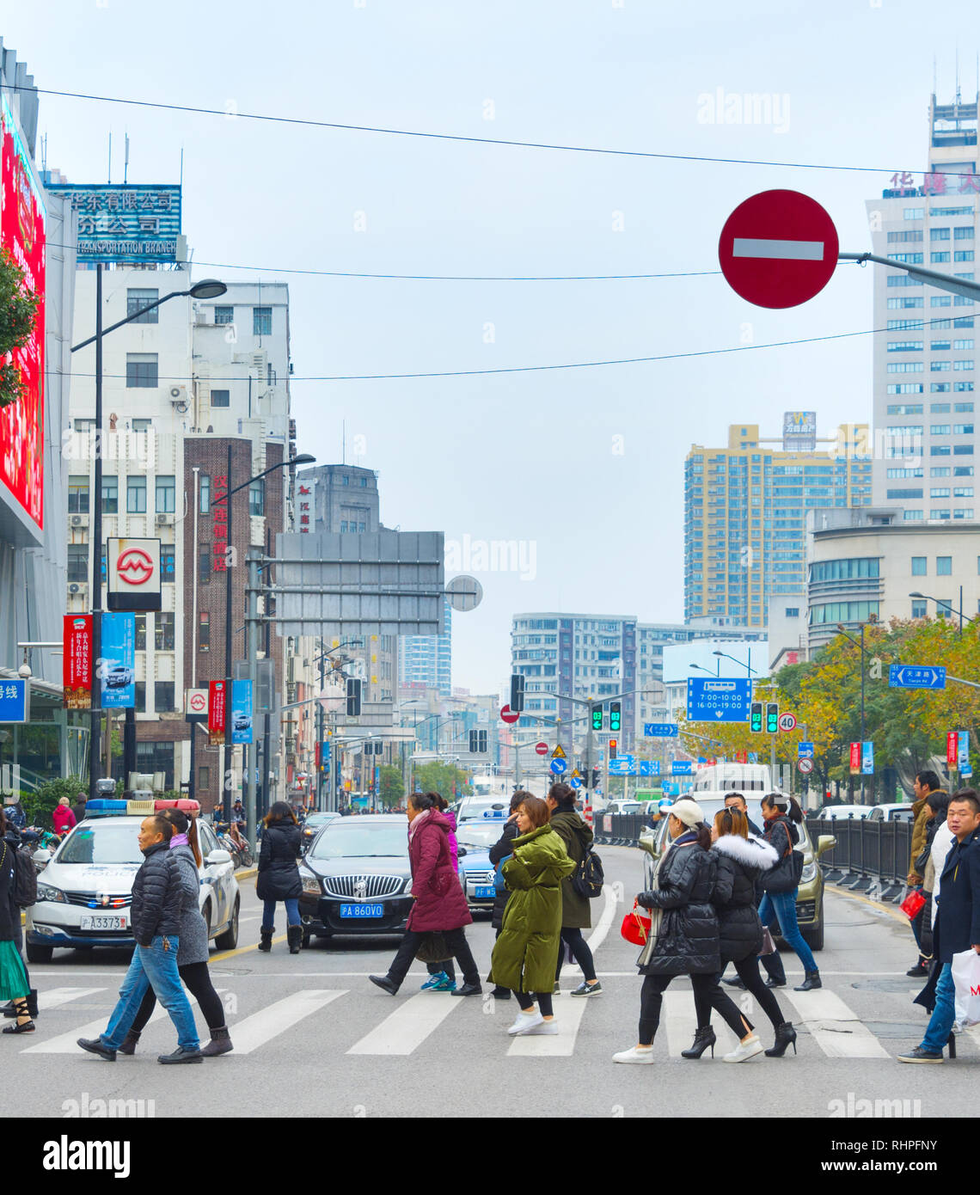Crosswalk: (243, 959, 534, 1071)
Person: (630, 787, 762, 1065), (86, 814, 208, 1063), (707, 810, 815, 1061), (376, 792, 483, 998), (497, 795, 565, 1038), (941, 800, 974, 1069)
